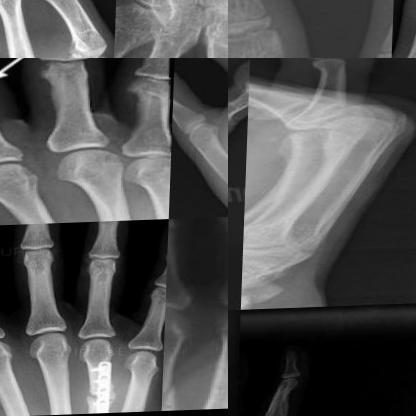fracture: (287, 109, 370, 139), (80, 357, 122, 414), (228, 24, 293, 57), (166, 384, 191, 412), (243, 80, 250, 104)
